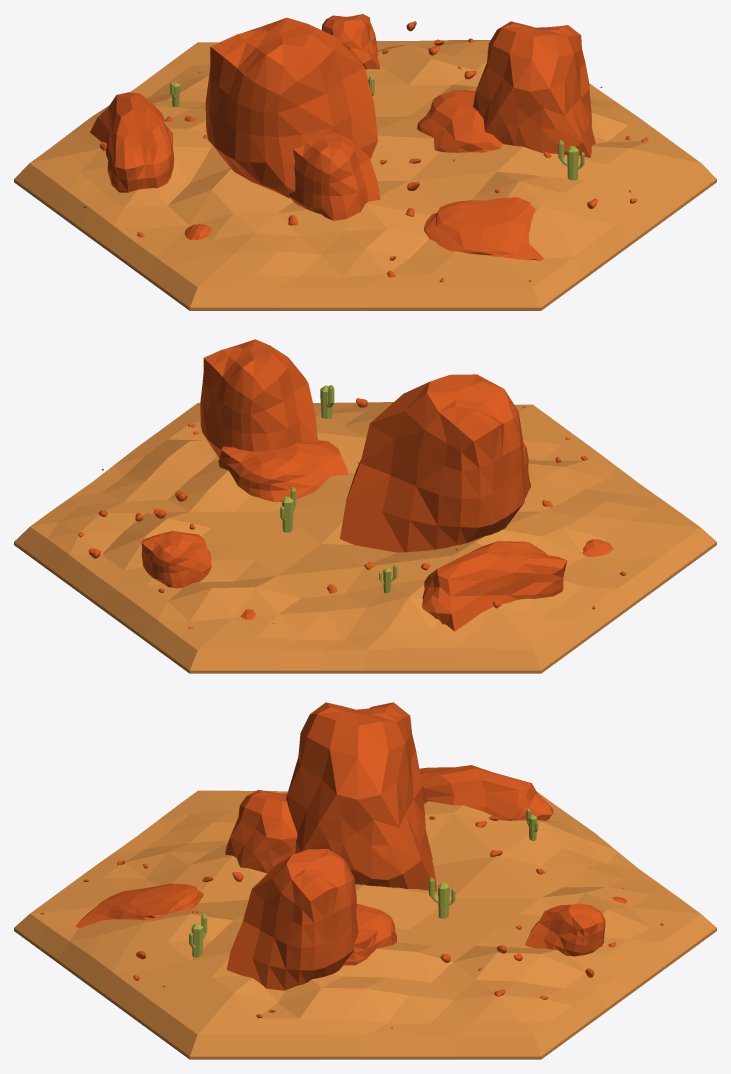
Rendered from temperatedessert.glb.
3 renders of one model, top to bottom at view 1: azimuth 30°, elevation 25°; view 2: azimuth 150°, elevation 25°; view 3: azimuth 270°, elevation 25°, orthographic.
Visible parts, largest first — view 1: land, big_details; view 2: land, big_details; view 3: land, big_details.
Boxes of the visible parts, <box> form: land: <box>14,40,716,310</box>; big_details: <box>83,14,648,282</box>; land: <box>14,402,716,673</box>; big_details: <box>78,339,626,631</box>; land: <box>14,790,716,1059</box>; big_details: <box>40,702,664,1028</box>.
Bounding box in the file's own units: 1.73 × 0.5538 × 2.
